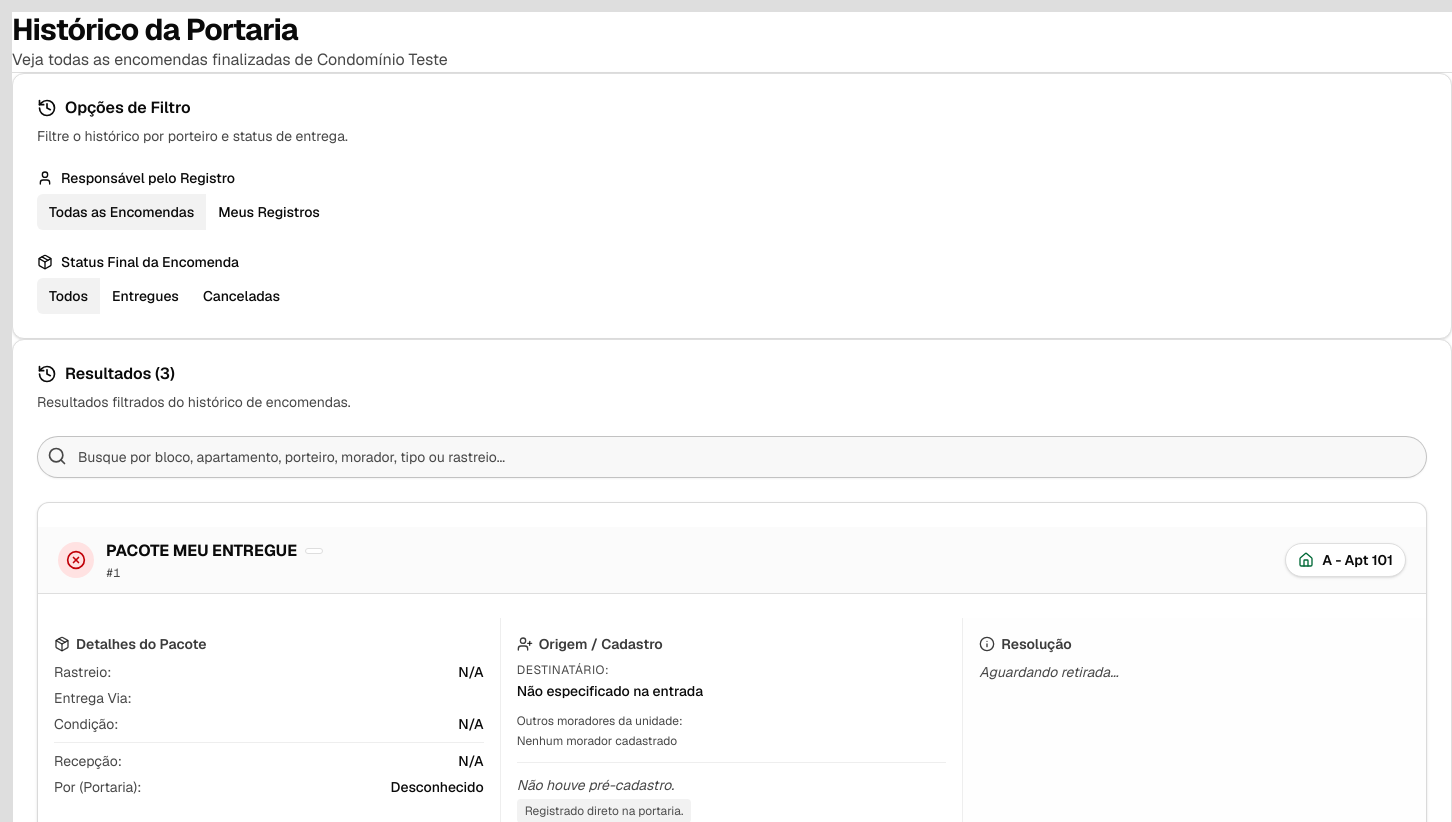
Scenario: Página de Histórico do Porteiro › deve filtrar por 'Meus Registros'
Click the radio button with aria-label "Minhas encomendas" at [269, 212], box [206,194,332,230]
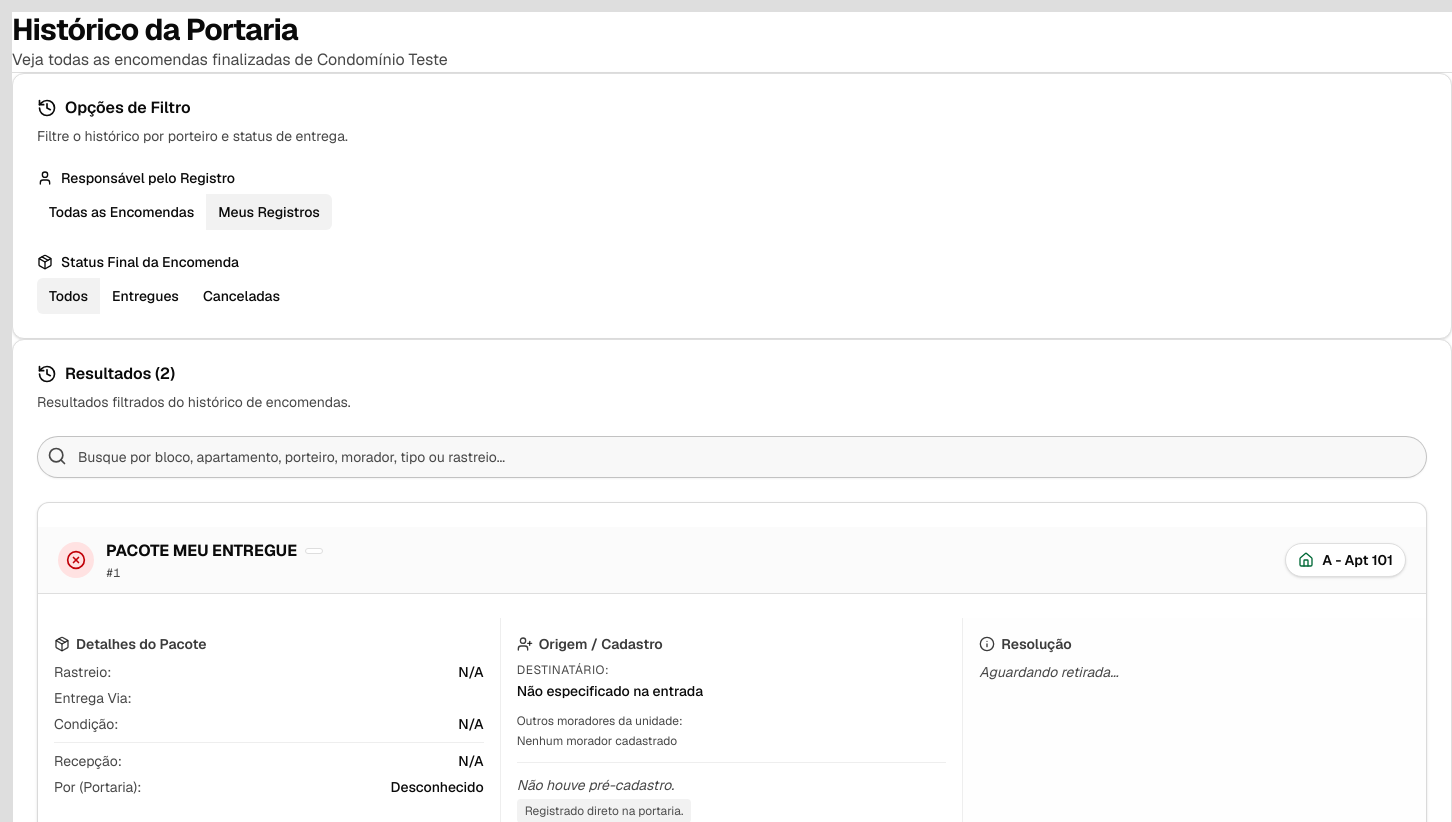
Check: the text "Pacote Meu Entregue" is shown, box [106,539,297,563]
Check: the text "Resultados (2)" is shown, box [37,363,175,384]
